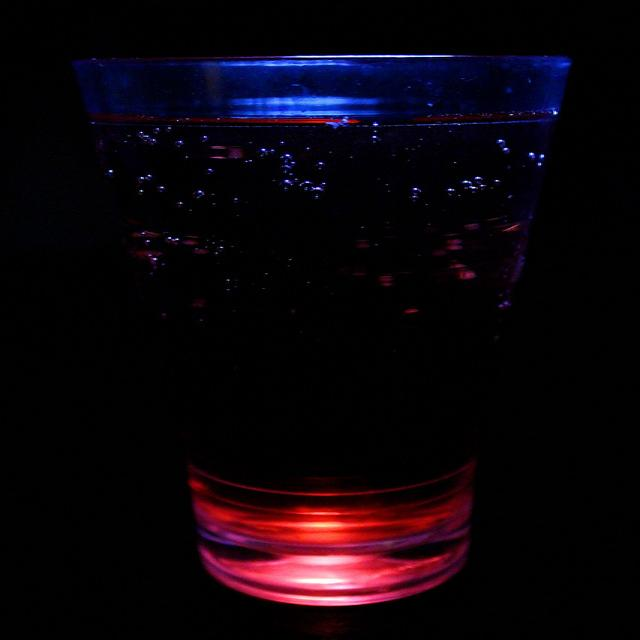Cup: (32, 37, 604, 633)
